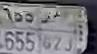5: (14, 9, 24, 52), (24, 12, 35, 51)
6: (2, 6, 14, 50)
J: (64, 17, 73, 54)
